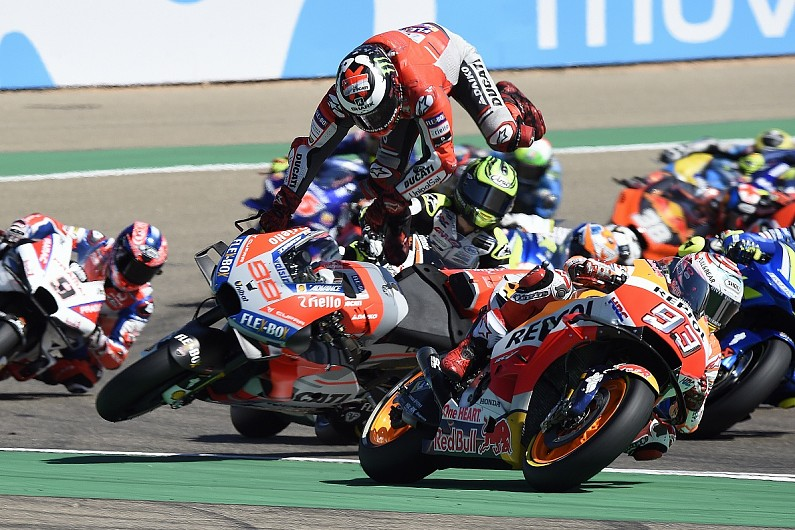helmet: (663, 237, 750, 339), (329, 40, 413, 141), (101, 208, 174, 303), (460, 141, 521, 233)
